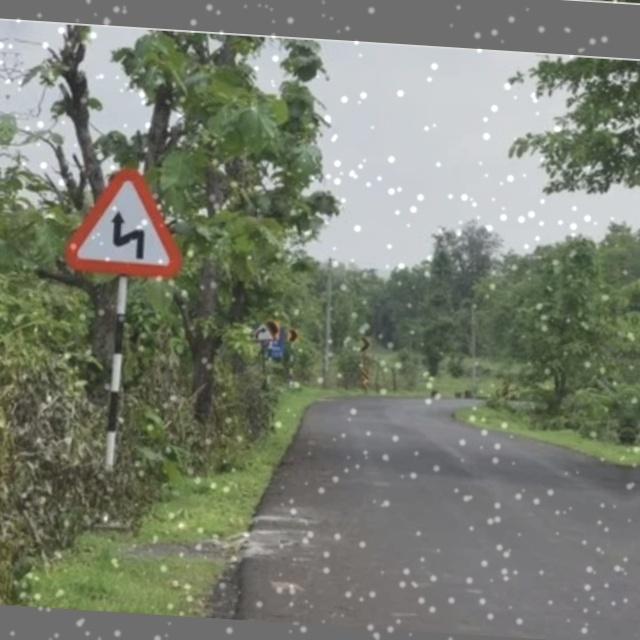Left_Reverse_Bend: (68, 166, 185, 280)
